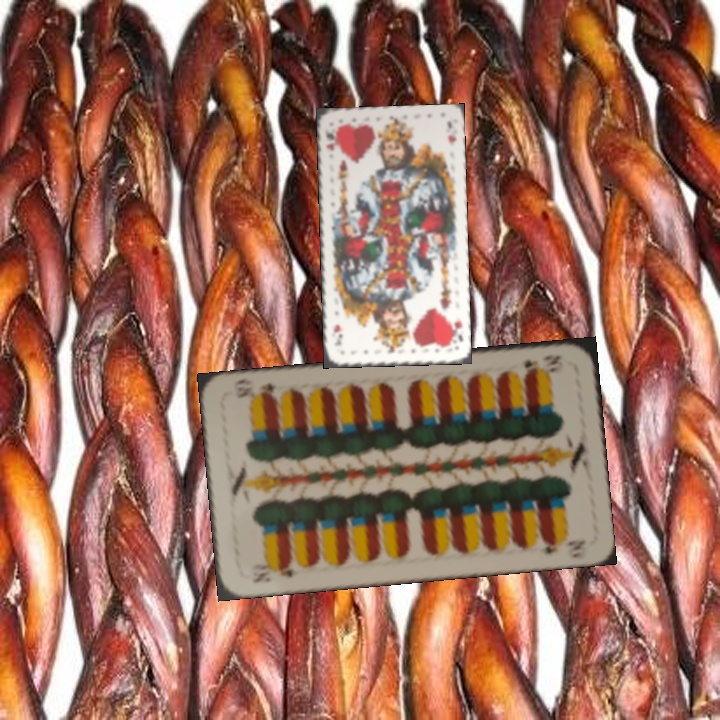E10: (248, 559, 300, 585), (520, 351, 566, 377)
HK: (446, 316, 466, 348), (322, 126, 337, 154)
